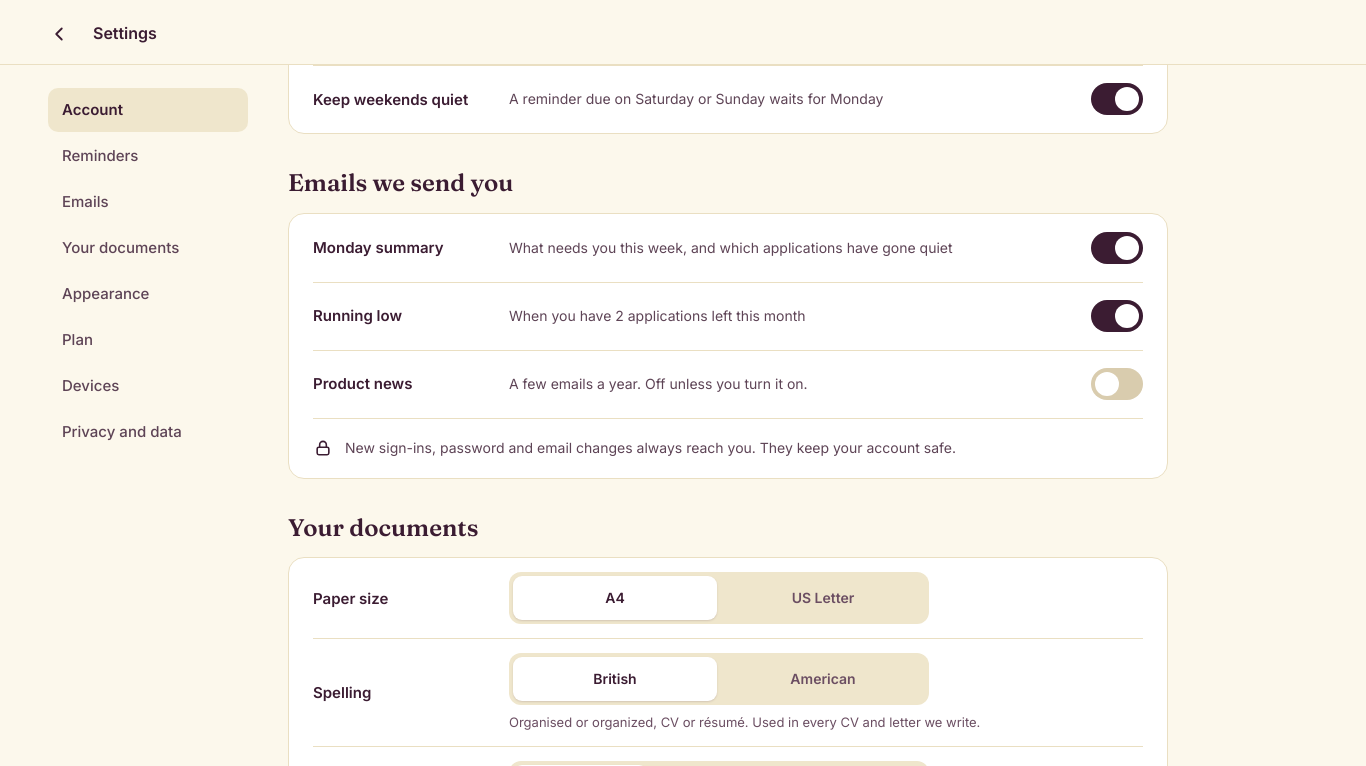
Test: SettingsPage › puts a setting back and shows why when the save fails
(page scrolled)
Click the switch named "Product news": click(1117, 384) [1091,368,1143,400]
(page scrolled)
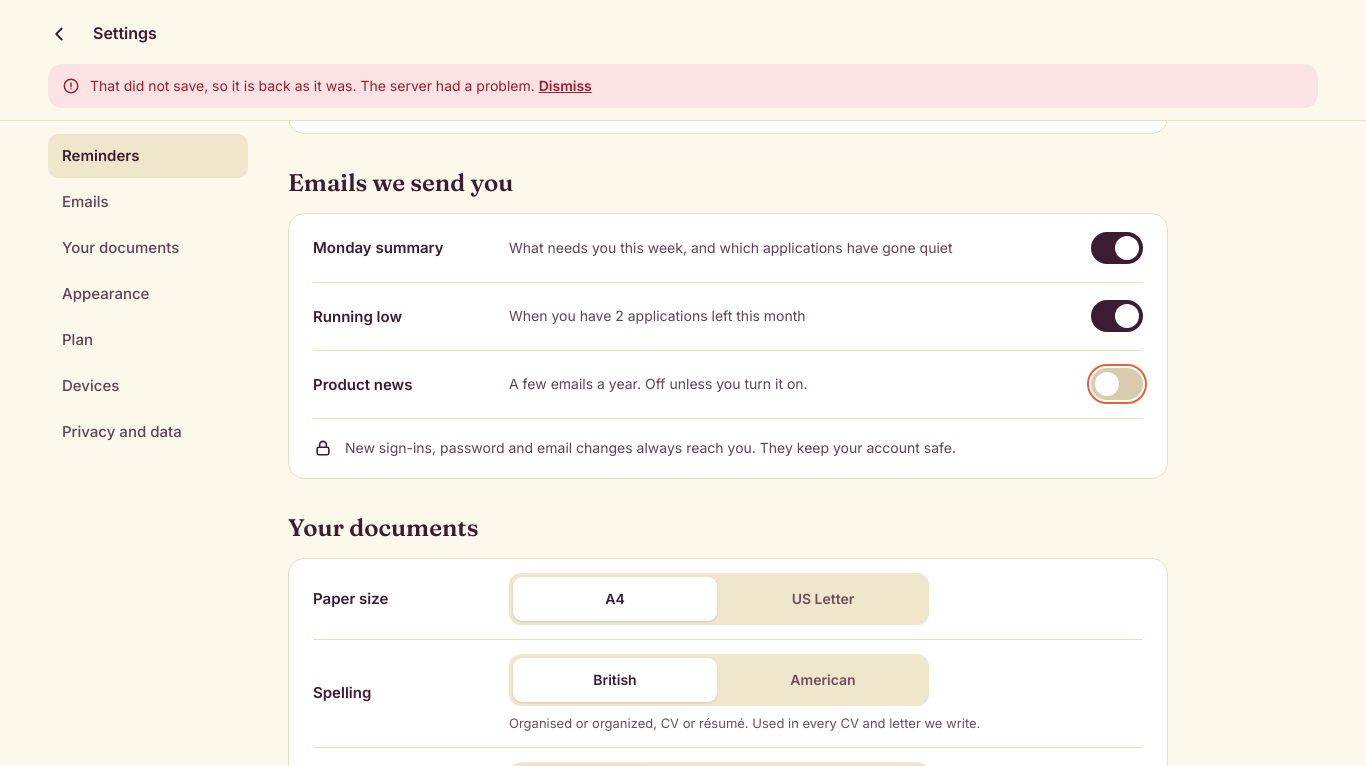
Result: the message shows "That did not save, so it is back as it was. The server had a problem." at [90,77,535,94]
